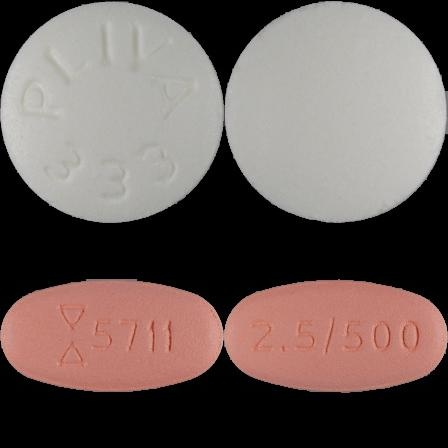63629-1388: (0, 0, 224, 224)
